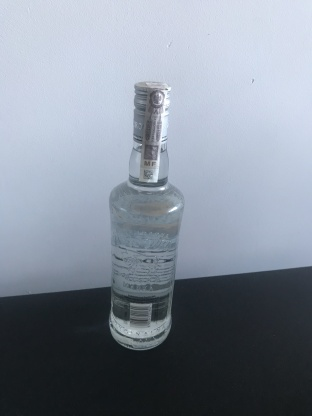nakretka: (130, 78, 172, 145)
